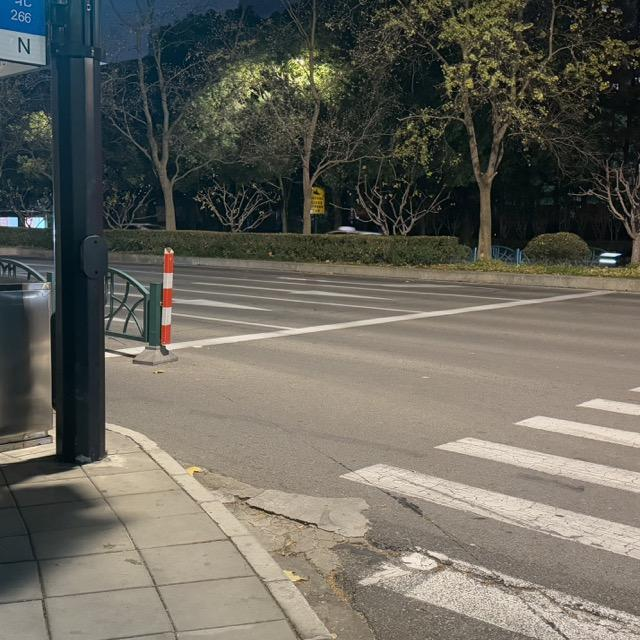curb: (109, 425, 333, 639), (178, 255, 639, 293), (111, 253, 160, 265)
